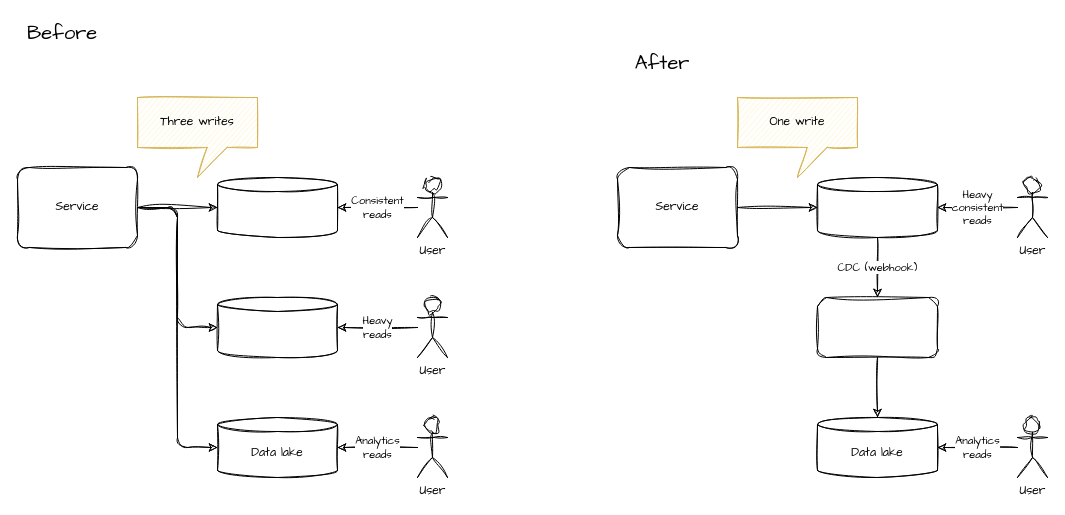
This 1065x515 diagram has some shape labels left out. The shapes that lost their labels are listed below. From the top down, each one's centre as x and y in pixels, then its label:
At point (277, 207): "Relational".
At point (877, 207): "DB (scaled)".
At point (277, 327): "Columnar".
At point (877, 327): "Data lake adapter".
